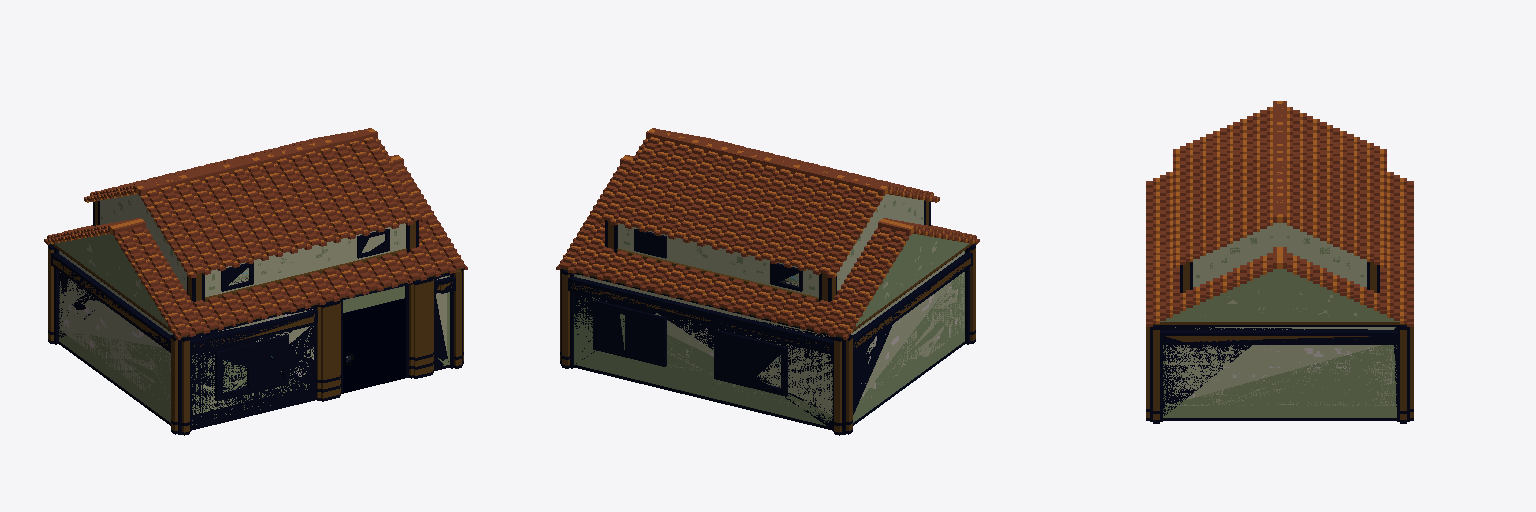
File: PlayerHouseEXT.obj
The picture shows the model from 3 angles: view 1: azimuth 30°, elevation 25°; view 2: azimuth 150°, elevation 25°; view 3: azimuth 270°, elevation 25°; orthographic projection.
Parts seen in each view (by area): view 1: FirstTownHouse; view 2: FirstTownHouse; view 3: FirstTownHouse.
Boxes of the visible parts, box(x1,y1,x2,y2) form: FirstTownHouse: box(44, 128, 467, 435); FirstTownHouse: box(556, 128, 979, 435); FirstTownHouse: box(1146, 101, 1413, 423).
Size of the model in its own units: 4 by 2.56 by 3.2.